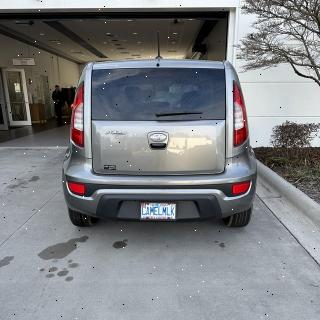license: (139, 202, 179, 223)
